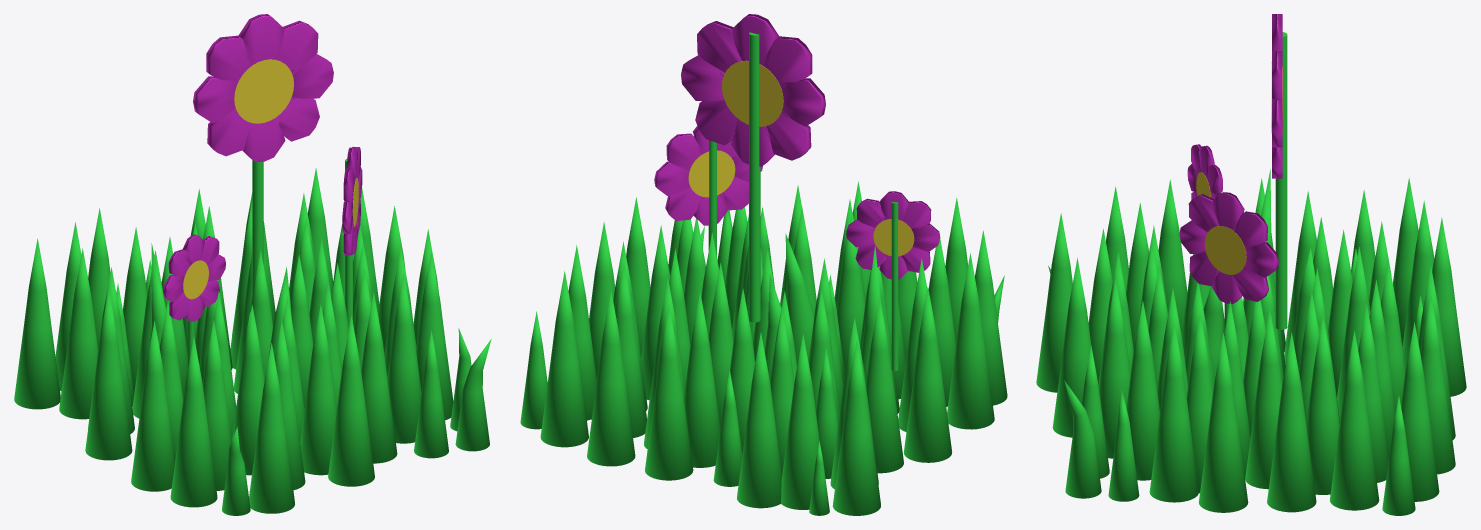
The model's file is tsetseg.fbx.
3 views of the same model, side by side, from view 1: azimuth 30°, elevation 25°; view 2: azimuth 150°, elevation 25°; view 3: azimuth 270°, elevation 25° (orthographic). The views are drawn at different scales.
Visible parts, largest first — view 1: Cone, Cylinder.001, Cylinder.002, Cylinder.000; view 2: Cone, Cylinder.001, Cylinder.000, Cylinder.002; view 3: Cone, Cylinder.000, Cylinder.001, Cylinder.002.
Boxes of the visible parts, x1=… form: Cone: x1=14, y1=168, x2=491, y2=515; Cylinder.001: x1=193, y1=14, x2=333, y2=295; Cylinder.002: x1=163, y1=234, x2=225, y2=367; Cylinder.000: x1=342, y1=146, x2=362, y2=329; Cone: x1=520, y1=181, x2=1007, y2=515; Cylinder.001: x1=681, y1=14, x2=825, y2=322; Cylinder.000: x1=654, y1=126, x2=762, y2=256; Cylinder.002: x1=846, y1=191, x2=940, y2=370; Cone: x1=1036, y1=169, x2=1466, y2=515; Cylinder.000: x1=1179, y1=192, x2=1278, y2=330; Cylinder.001: x1=1271, y1=14, x2=1287, y2=329; Cylinder.002: x1=1187, y1=144, x2=1222, y2=199.
Bounding box in the file's own units: 184 × 196 × 187.
